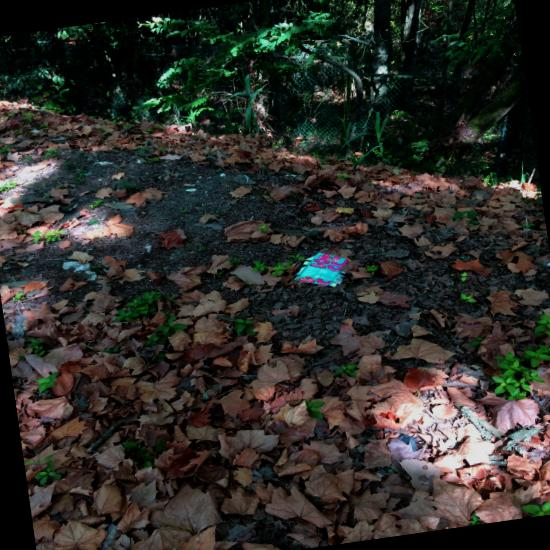Other carton: (294, 252, 348, 286)
Plastic film: (103, 522, 117, 547), (11, 314, 25, 338)
